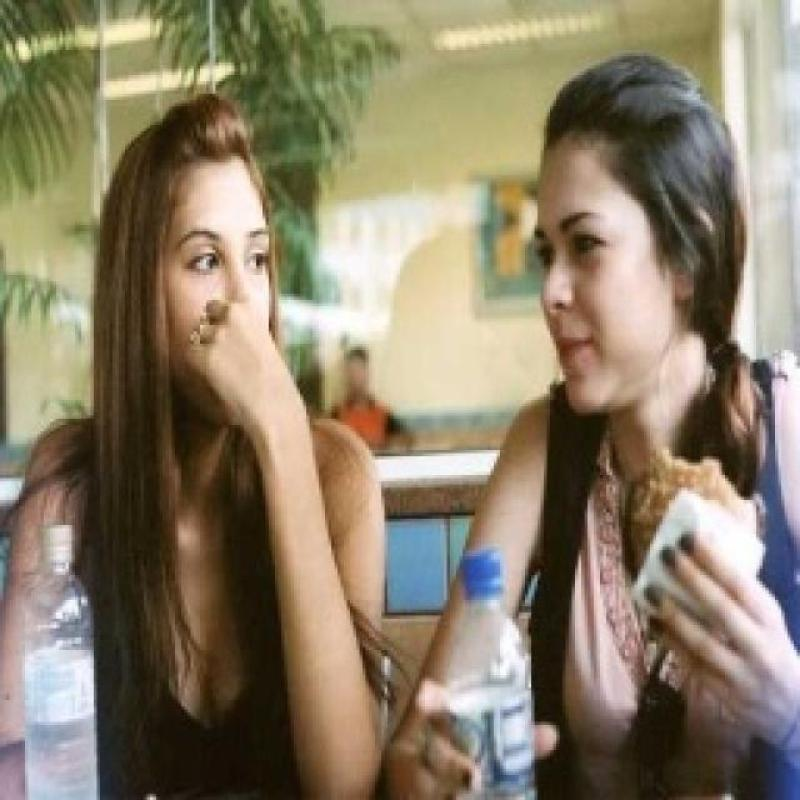botella: (444, 546, 538, 800), (15, 521, 99, 800)
